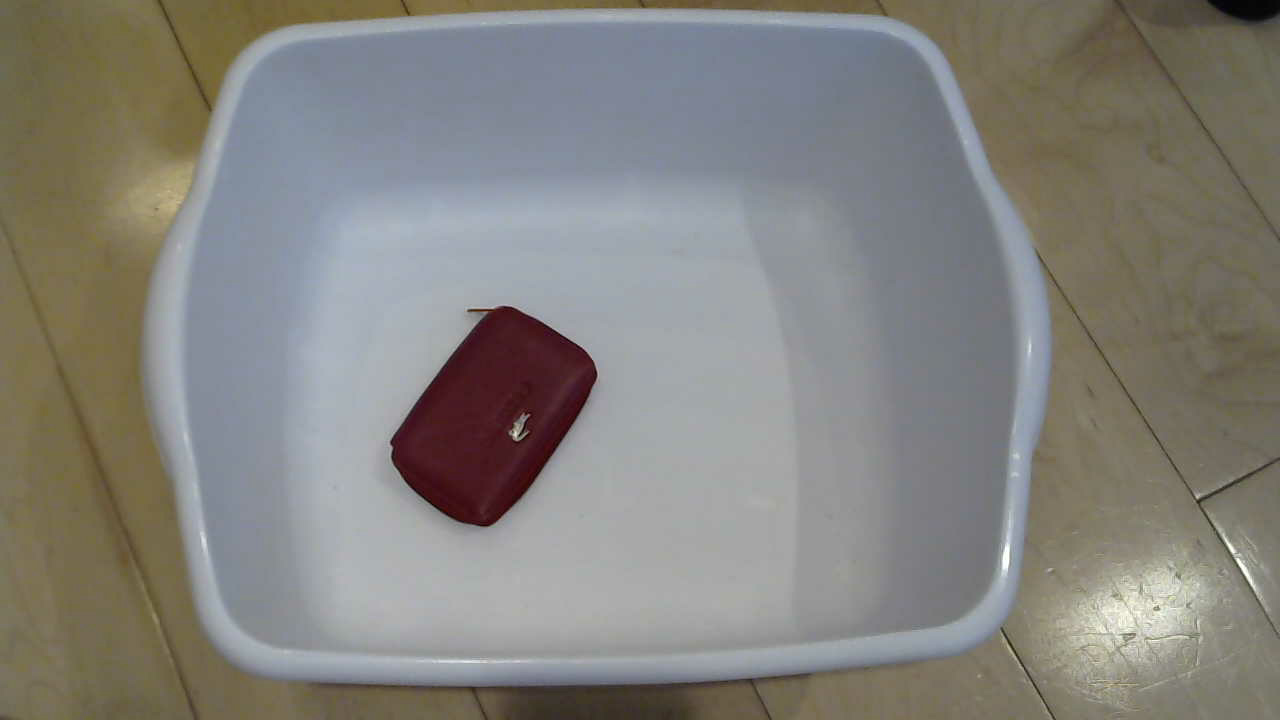wallet: (379, 305, 615, 545)
